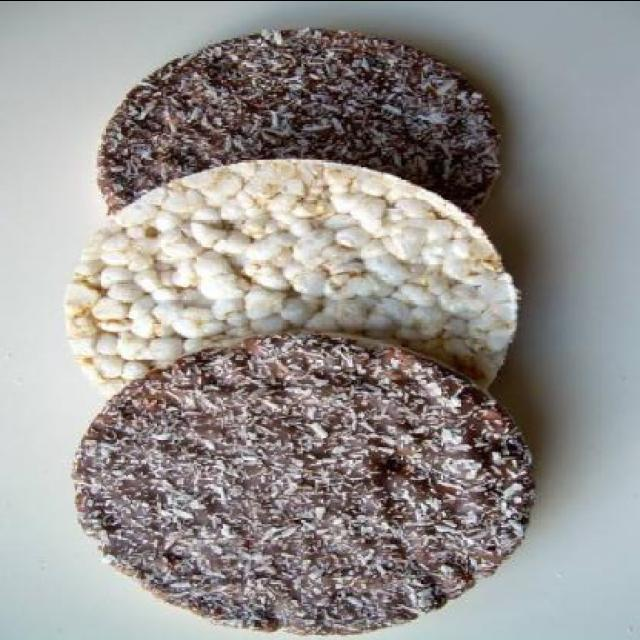Gallette di riso packaged: (68, 332, 538, 640), (60, 153, 522, 425), (98, 22, 507, 242)
